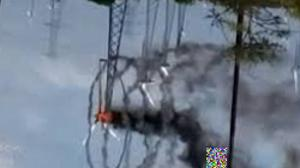faulty: (93, 43, 187, 132)
